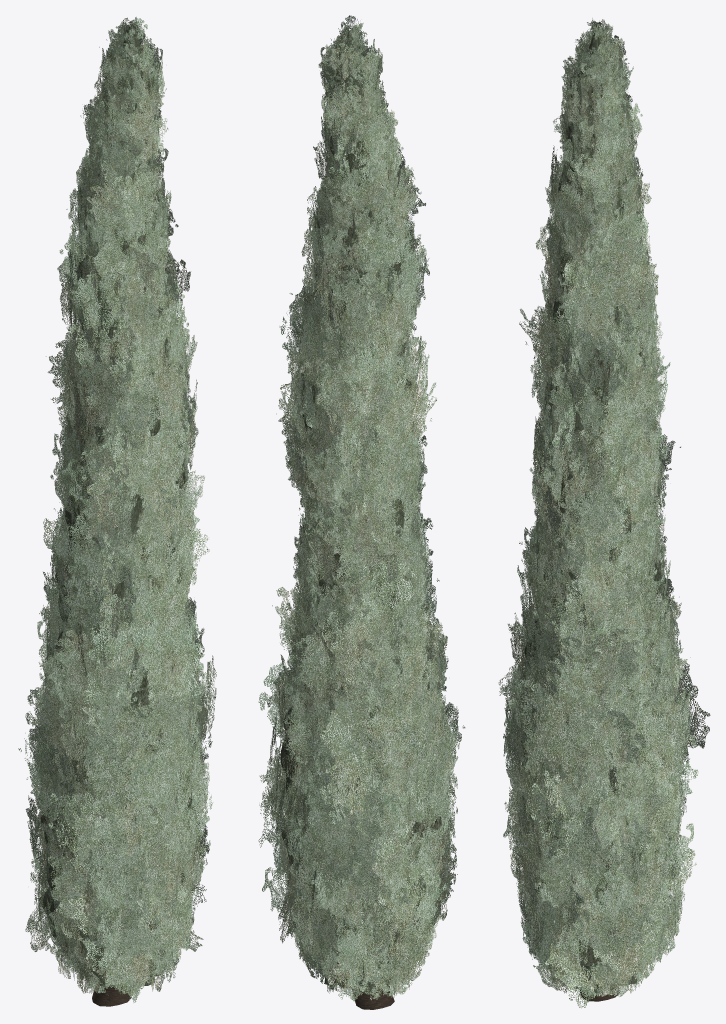
File: cypress.obj
The picture shows the model from 3 angles, left to right: view 1: azimuth 30°, elevation 25°; view 2: azimuth 150°, elevation 25°; view 3: azimuth 270°, elevation 25°; orthographic projection.
Visible parts, largest first — view 1: Cypress_FoliageCards, Cypress_CrownCore, Cypress_Trunk; view 2: Cypress_FoliageCards, Cypress_CrownCore, Cypress_Trunk; view 3: Cypress_FoliageCards, Cypress_CrownCore.
Part boxes in pixels (x1,y1,x2,y2): Cypress_FoliageCards: [18, 17, 216, 1002]; Cypress_CrownCore: [39, 26, 195, 987]; Cypress_Trunk: [92, 984, 131, 1006]; Cypress_FoliageCards: [258, 15, 465, 1001]; Cypress_CrownCore: [280, 28, 441, 995]; Cypress_Trunk: [352, 986, 394, 1009]; Cypress_FoliageCards: [498, 18, 710, 1008]; Cypress_CrownCore: [513, 27, 672, 993].
Size of the model in its own units: 1.96 by 10.1 by 2.01.
Materials: 3 (3 with a texture image).
